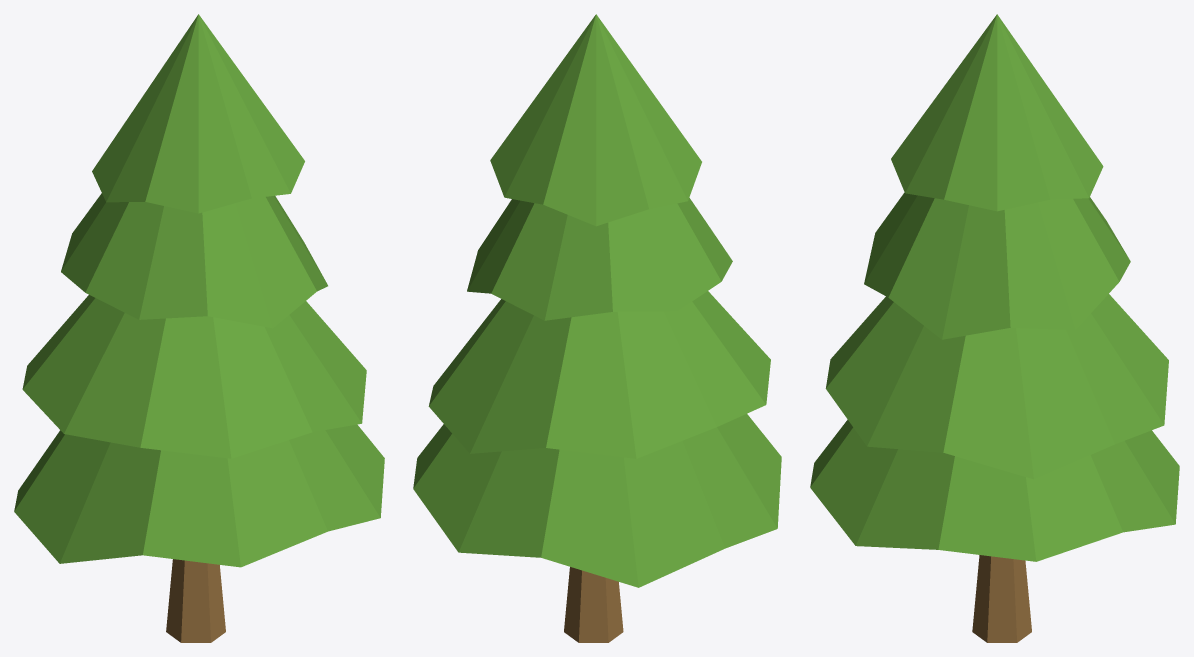
File: pineTree.fbx
3 views of the same model, side by side, from view 1: azimuth 30°, elevation 25°; view 2: azimuth 150°, elevation 25°; view 3: azimuth 270°, elevation 25° (orthographic).
Parts seen in each view (by area): view 1: Cone.002, Cone.003, Cone.001, Cone, Cylinder; view 2: Cone.002, Cone.003, Cone, Cone.001, Cylinder; view 3: Cone.002, Cone.003, Cone.001, Cone, Cylinder.
Boxes of the visible parts, box(x1,y1,x2,y2) form: Cone.002: box(22, 295, 366, 458); Cone.003: box(14, 424, 384, 567); Cone.001: box(61, 193, 327, 328); Cone: box(92, 14, 304, 213); Cylinder: box(166, 559, 225, 642); Cone.002: box(428, 291, 770, 458); Cone.003: box(413, 414, 781, 587); Cone: box(490, 14, 701, 226); Cone.001: box(467, 198, 732, 320); Cylinder: box(564, 567, 623, 642); Cone.002: box(825, 294, 1168, 479); Cone.003: box(810, 419, 1179, 561); Cone.001: box(864, 192, 1130, 339); Cone: box(891, 14, 1103, 211); Cylinder: box(972, 555, 1031, 642).
Bounding box in the file's own units: 899 × 1658 × 899.
